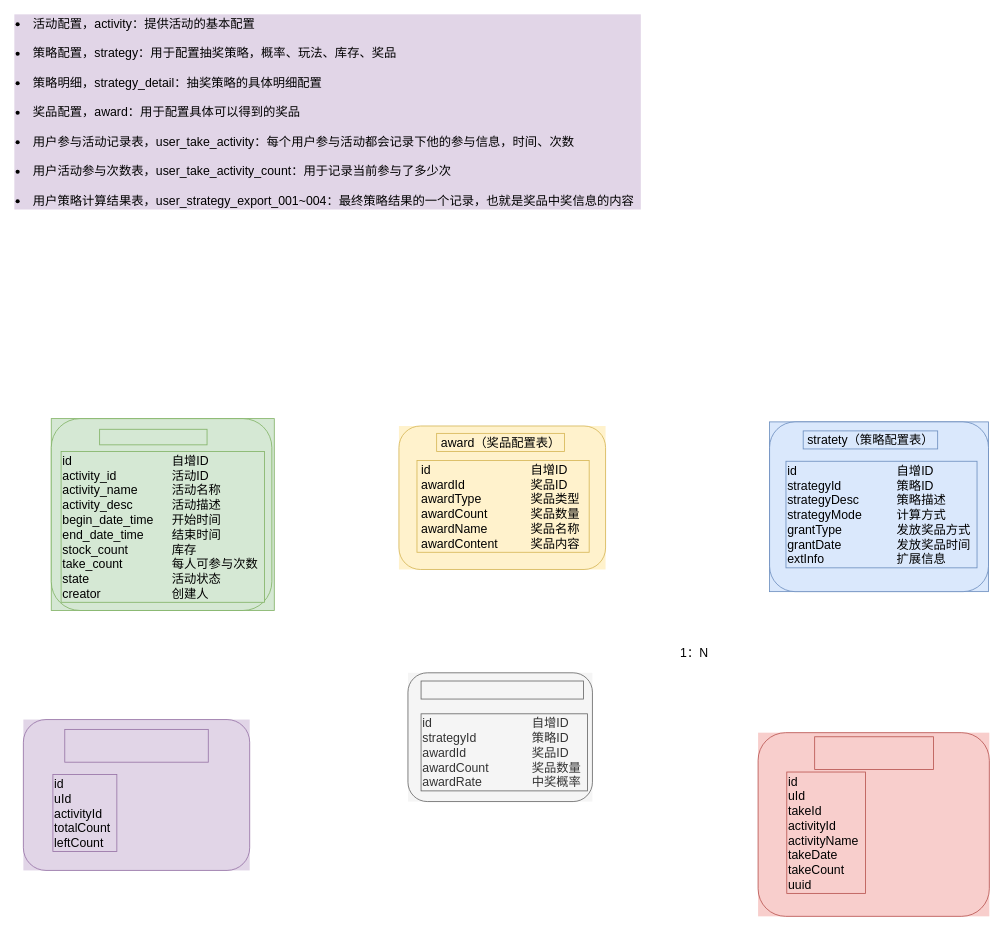
This 1004x931 diagram has some shape labels left out. Here are the shapes that lost their labels. From the top down, the centre of each, then its label:
the point at 153,436: activity（活动表）
the point at 501,689: strategy_detail（策略明细）
the point at 136,745: user_take_activity_count (用户活动参与次数表)
the point at 874,753: user_take_activity 用户参与活动记录表
